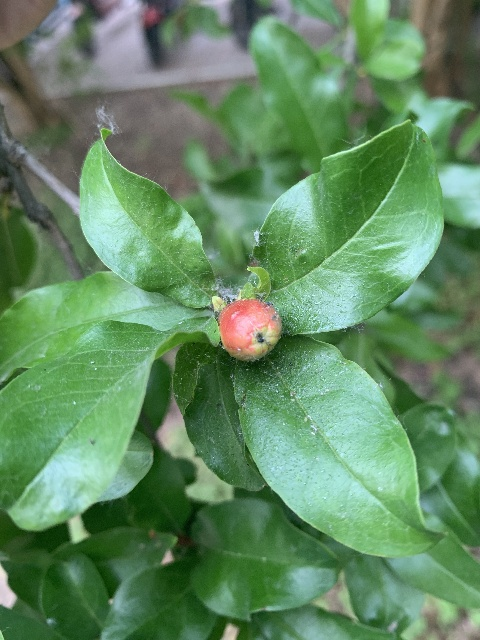bud: (219, 299, 281, 360)
